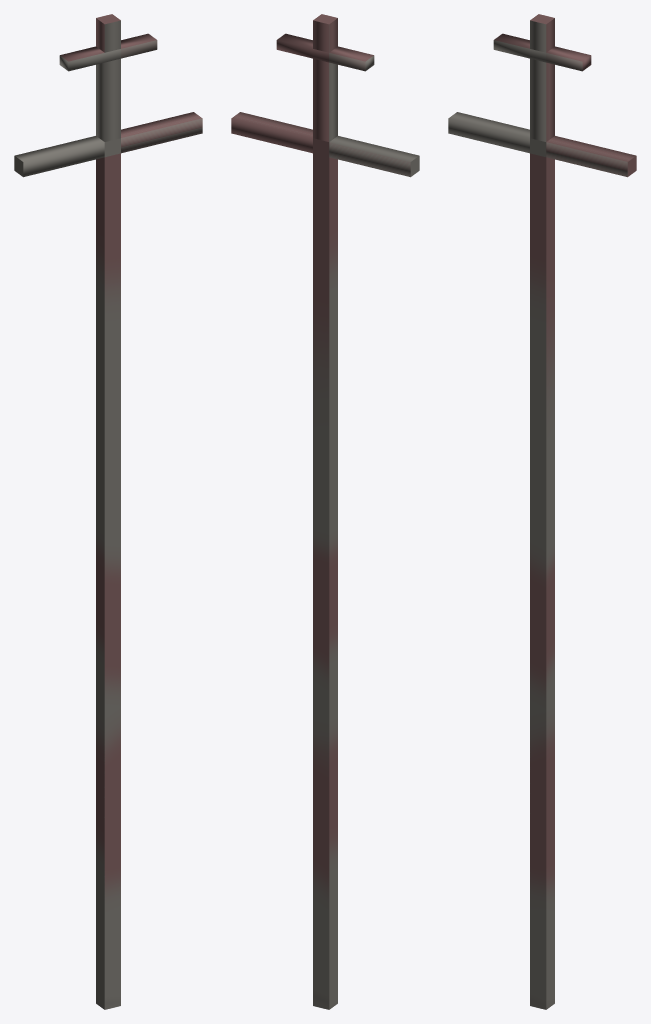
File: FlagPole2.obj
3 views of the same model, side by side, from view 1: azimuth 30°, elevation 25°; view 2: azimuth 150°, elevation 25°; view 3: azimuth 330°, elevation 25° (orthographic).
Parts seen in each view (by area): view 1: 立方体; view 2: 立方体; view 3: 立方体.
Boxes of the visible parts, box(x1,y1,x2,y2) form: 立方体: box(14, 14, 202, 1009); 立方体: box(231, 14, 419, 1009); 立方体: box(448, 14, 636, 1009).
Size of the model in its own units: 1.98 by 10.4 by 0.168.
1 material, 1 textured.
